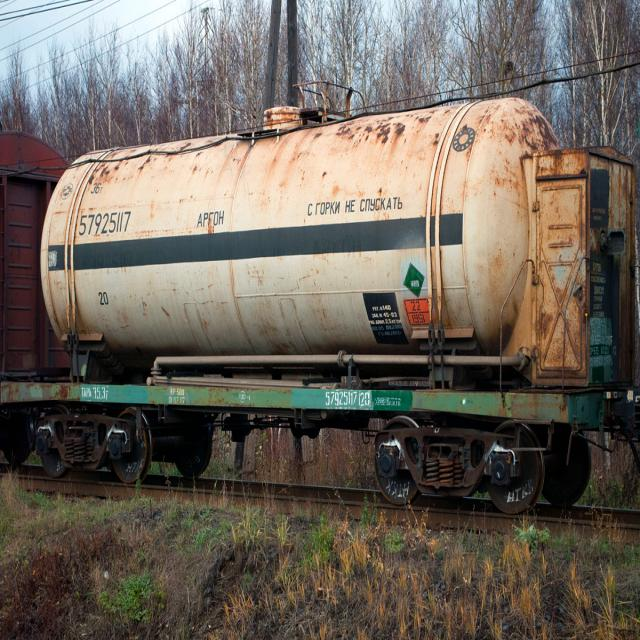boxcar: (0, 108, 62, 487)
tank: (39, 78, 640, 528)
